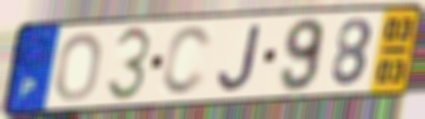3: (104, 24, 154, 104)
8: (330, 17, 373, 88)
9: (276, 14, 327, 95)
C: (159, 23, 215, 99)
J: (215, 22, 265, 94)
O: (53, 31, 105, 104)
